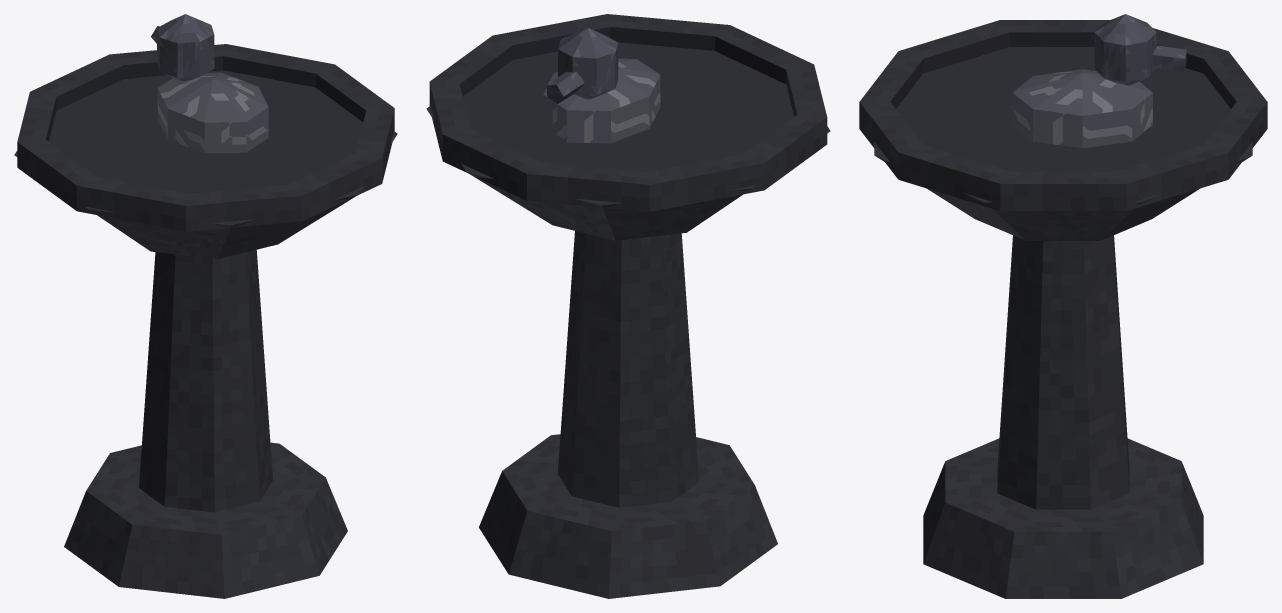
File: f_vitrified_birdbath.glb
3 views of the same model, side by side, from view 1: azimuth 30°, elevation 25°; view 2: azimuth 150°, elevation 25°; view 3: azimuth 270°, elevation 25° (orthographic). The views are drawn at different scales.
Visible parts, largest first — view 1: block_pedestal, block_rainwater, block_plinth, block_glass-bird-body, block_bowl-underside, block_raised-glass-bird-head, block_raised-stone-rim-outer-2, block_raised-stone-rim-outer-3, block_raised-stone-rim-outer-1, block_raised-stone-rim-outer-4, block_raised-stone-rim-far-rim-2, block_raised-stone-rim-far-rim-8 (+12 smaller); view 2: block_pedestal, block_plinth, block_rainwater, block_glass-bird-body, block_bowl-underside, block_raised-stone-rim-outer-6, block_raised-glass-bird-head, block_raised-stone-rim-outer-5, block_raised-stone-rim-outer-7, block_raised-stone-rim-outer-4, block_raised-stone-rim-inner-1, block_raised-stone-rim-far-rim-1 (+13 smaller); view 3: block_pedestal, block_rainwater, block_plinth, block_glass-bird-body, block_bowl-underside, block_raised-glass-bird-head, block_raised-stone-rim-outer-9, block_raised-stone-rim-outer-0, block_raised-stone-rim-outer-8, block_raised-stone-rim-far-rim-9, block_raised-stone-rim-far-rim-3, block_raised-stone-rim-far-rim-0 (+12 smaller).
Part boxes in pixels (bbox=[...]): block_pedestal: bbox=[139, 249, 272, 512]; block_rainwater: bbox=[48, 70, 363, 193]; block_plinth: bbox=[64, 442, 347, 598]; block_glass-bird-body: bbox=[157, 72, 268, 153]; block_bowl-underside: bbox=[14, 131, 397, 258]; block_raised-glass-bird-head: bbox=[157, 14, 214, 82]; block_raised-stone-rim-outer-2: bbox=[186, 195, 302, 231]; block_raised-stone-rim-outer-3: bbox=[77, 185, 185, 231]; block_raised-stone-rim-outer-1: bbox=[302, 158, 382, 221]; block_raised-stone-rim-outer-4: bbox=[17, 142, 76, 210]; block_raised-stone-rim-far-rim-2: bbox=[186, 185, 301, 205]; block_raised-stone-rim-far-rim-8: bbox=[223, 44, 334, 73]; block_pedestal: bbox=[557, 231, 699, 507]; block_plinth: bbox=[479, 434, 777, 598]; block_rainwater: bbox=[463, 42, 794, 171]; block_glass-bird-body: bbox=[543, 58, 660, 143]; block_bowl-underside: bbox=[426, 106, 830, 240]; block_raised-stone-rim-outer-6: bbox=[527, 174, 649, 211]; block_raised-glass-bird-head: bbox=[558, 27, 618, 99]; block_raised-stone-rim-outer-5: bbox=[649, 163, 764, 211]; block_raised-stone-rim-outer-7: bbox=[442, 134, 526, 200]; block_raised-stone-rim-outer-4: bbox=[764, 117, 827, 189]; block_raised-stone-rim-inner-1: bbox=[610, 27, 714, 50]; block_raised-stone-rim-far-rim-1: bbox=[607, 14, 729, 36]; block_pedestal: bbox=[997, 235, 1129, 509]; block_rainwater: bbox=[896, 47, 1230, 171]; block_plinth: bbox=[923, 438, 1203, 598]; block_glass-bird-body: bbox=[1012, 69, 1152, 148]; block_bowl-underside: bbox=[874, 142, 1252, 240]; block_raised-glass-bird-head: bbox=[1094, 14, 1156, 86]; block_raised-stone-rim-outer-9: bbox=[1000, 184, 1126, 210]; block_raised-stone-rim-outer-0: bbox=[898, 152, 1000, 210]; block_raised-stone-rim-outer-8: bbox=[1126, 152, 1228, 210]; block_raised-stone-rim-far-rim-9: bbox=[1000, 171, 1126, 183]; block_raised-stone-rim-far-rim-3: bbox=[898, 20, 1009, 58]; block_raised-stone-rim-far-rim-0: bbox=[899, 145, 1009, 183].
Size of the model in its own units: 0.6068 by 0.915 by 0.638.
3 materials, 3 textured.
